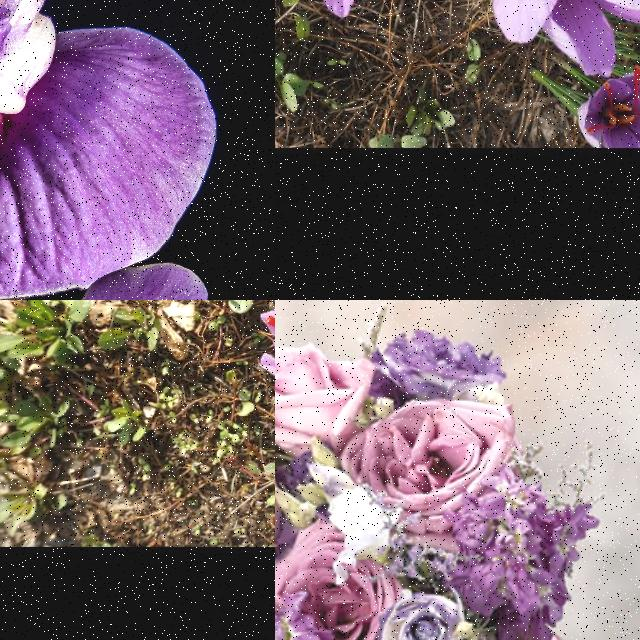flower: (493, 0, 640, 78), (577, 67, 640, 149)
